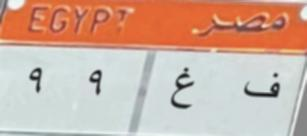9: (85, 66, 109, 101), (26, 64, 46, 96)
faa: (242, 69, 286, 106)
ghayn: (169, 64, 195, 115)
